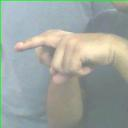hand: (14, 29, 128, 75)
